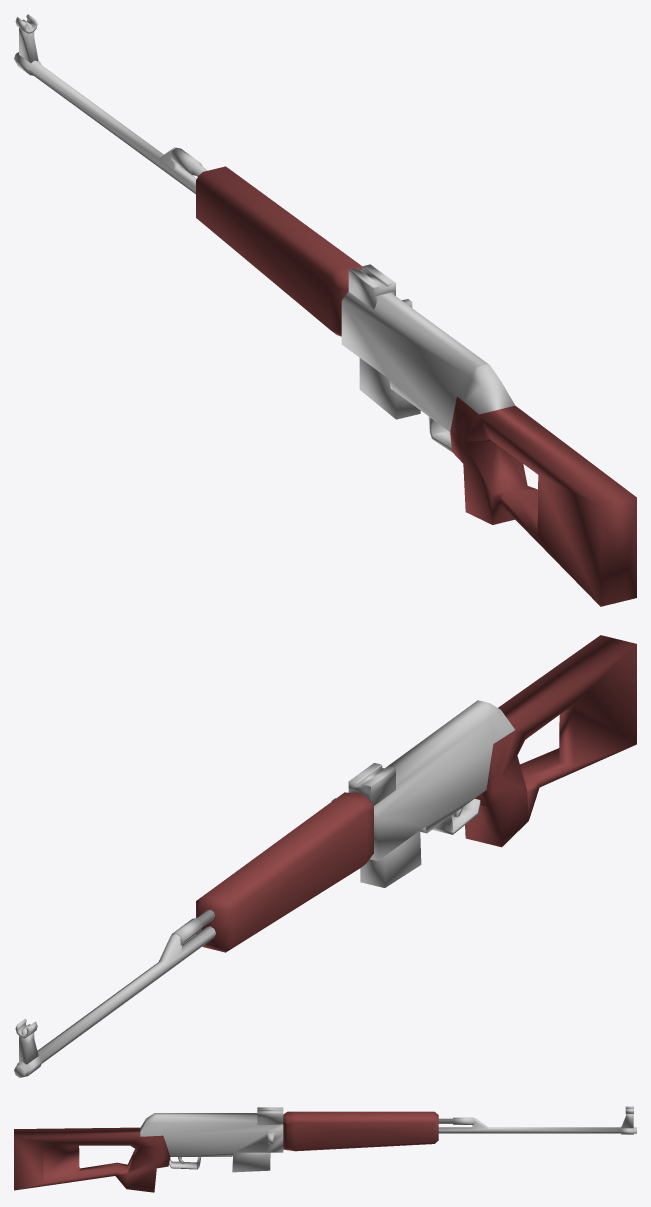
Rendered from SVD_PivotFixed.fbx.
3 views of the same model, one above another, from view 1: azimuth 30°, elevation 25°; view 2: azimuth 150°, elevation 25°; view 3: azimuth 270°, elevation 25° (orthographic). The views are drawn at different scales.
Parts seen in each view (by area): view 1: SVD, Magazin; view 2: SVD, Magazin; view 3: SVD, Magazin.
Part boxes in pixels (box(x1,y1,x2,y2)): SVD: box(14, 14, 636, 606); Magazin: box(359, 358, 420, 419); SVD: box(14, 635, 636, 1077); Magazin: box(360, 830, 421, 887); SVD: box(14, 1106, 636, 1192); Magazin: box(232, 1152, 270, 1172).
Size of the model in its own units: 67.23 by 175 by 1230.
